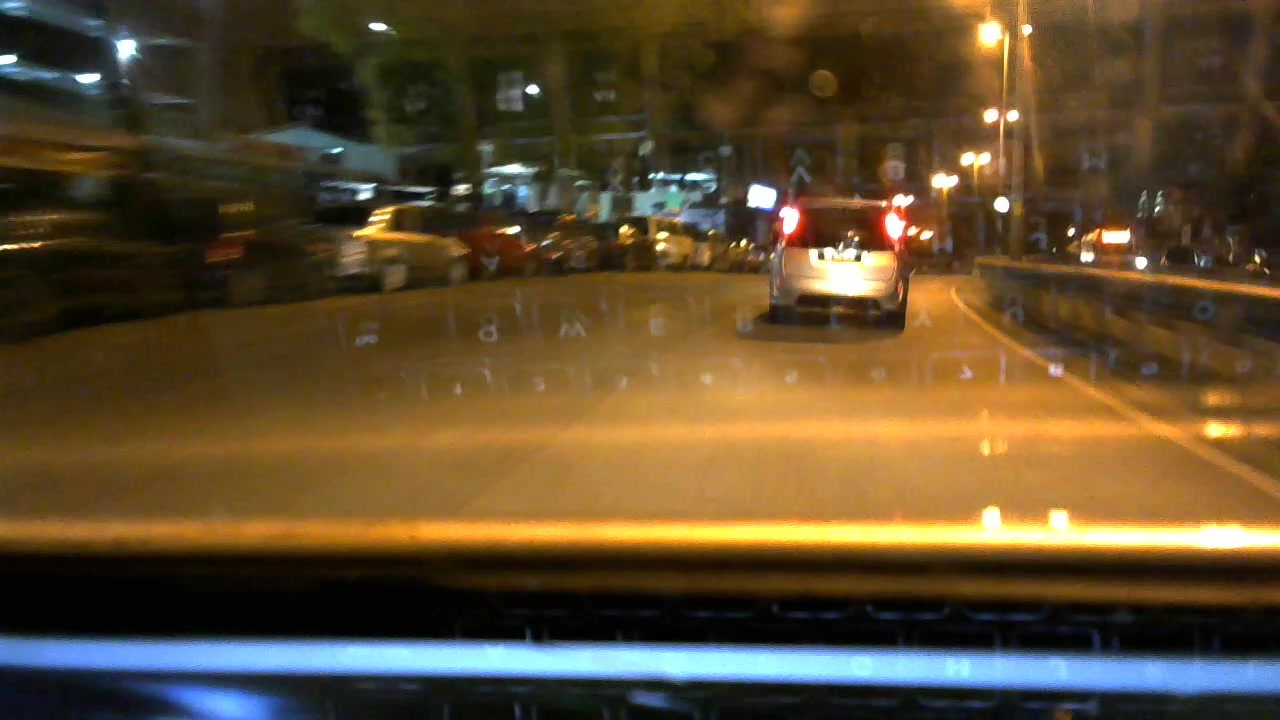Car: (761, 177, 911, 327), (339, 164, 470, 295)
